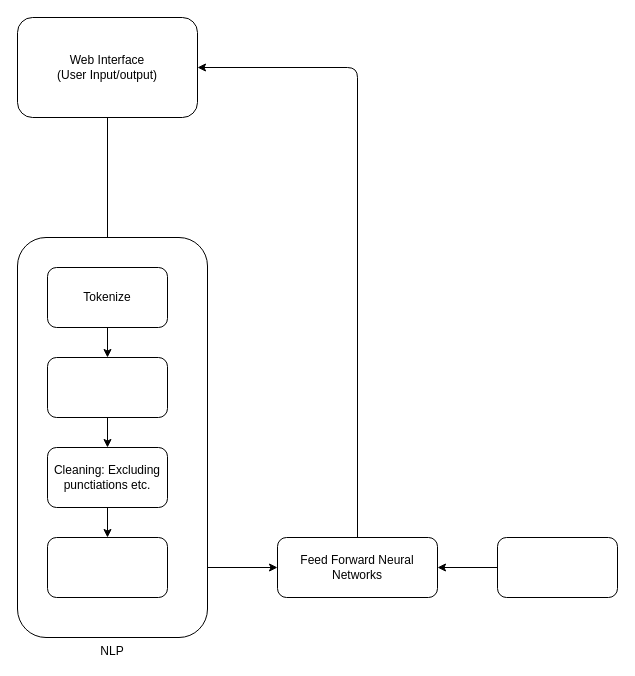
Some shapes in this 635 by 676 pixel diagram are drawn without their labels. The centre of each missing label's shape, as x and y in pixels:
"Bag of words: Vectorization" belongs at (x=107, y=567).
"lower + stem" belongs at (x=107, y=387).
"Mongo DB (Intents)" belongs at (x=557, y=567).
